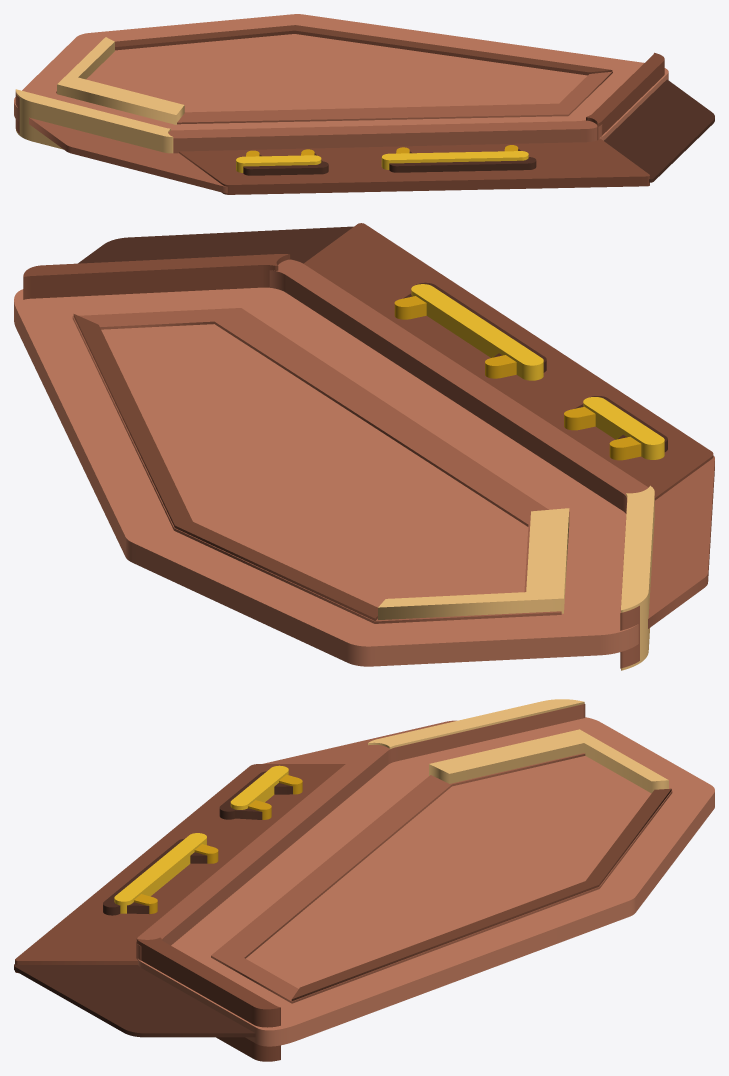
File: emoji_u26b0.glb
The picture shows the model from 3 angles, top to bottom: view 1: azimuth 30°, elevation 25°; view 2: azimuth 150°, elevation 25°; view 3: azimuth 270°, elevation 25°; orthographic projection. The views are drawn at different scales.
Parts seen in each view (by area): view 1: emoji_u26b0; view 2: emoji_u26b0; view 3: emoji_u26b0.
Part boxes in pixels (bbox=[...]): emoji_u26b0: bbox=[14, 14, 714, 194]; emoji_u26b0: bbox=[14, 223, 714, 670]; emoji_u26b0: bbox=[14, 699, 714, 1061].
Bounding box in the file's own units: 0.0335 × 0.0026 × 0.0315.
